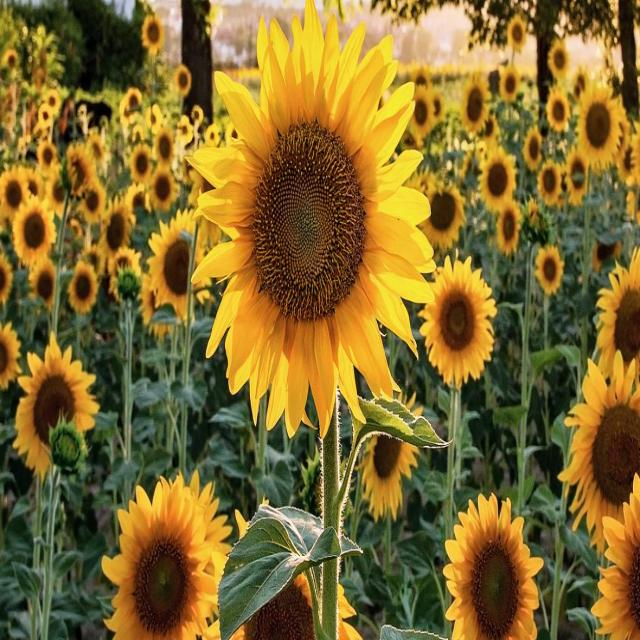sunflower: (180, 8, 450, 459), (93, 469, 225, 640), (436, 478, 546, 640), (560, 353, 640, 556), (14, 318, 100, 478), (413, 244, 507, 384), (145, 209, 212, 318), (596, 250, 640, 395), (568, 78, 627, 168), (6, 180, 57, 264), (423, 177, 467, 255), (93, 195, 136, 268), (476, 141, 517, 211), (62, 134, 99, 201), (65, 258, 106, 318), (460, 72, 493, 134), (564, 152, 594, 220), (534, 240, 568, 294), (148, 158, 177, 214), (136, 11, 168, 57), (496, 199, 522, 255), (411, 82, 435, 141), (538, 148, 562, 202), (542, 86, 568, 134), (522, 116, 545, 170), (544, 37, 574, 75), (130, 140, 154, 187), (501, 64, 522, 101), (508, 13, 529, 46)
